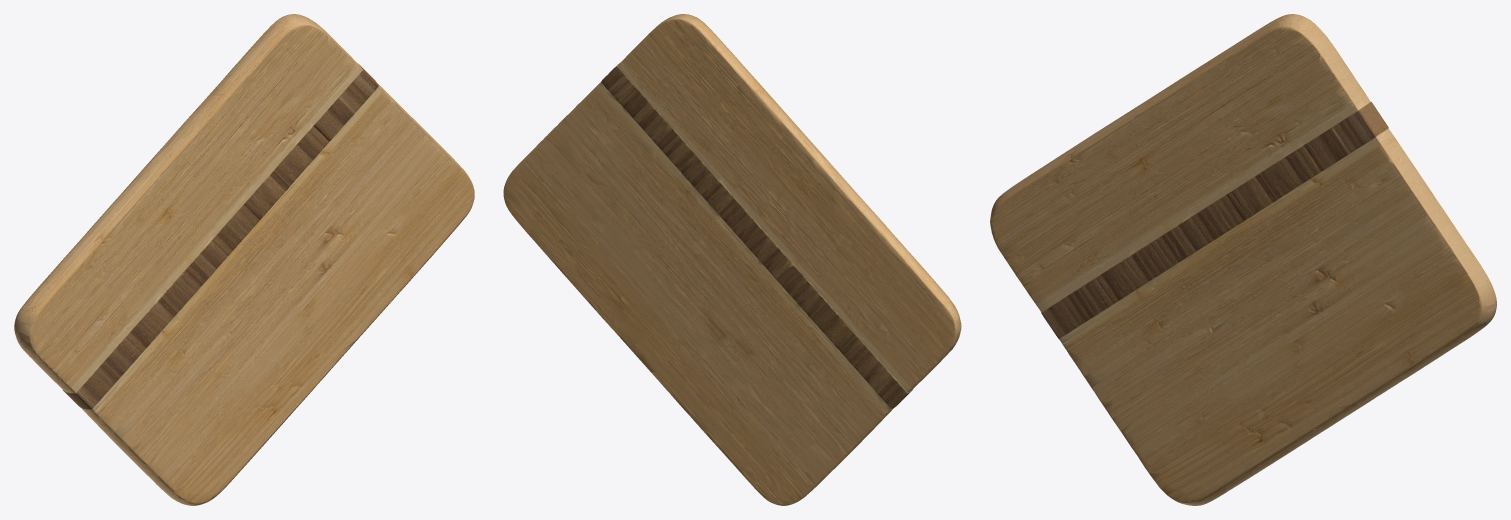
Rendered from sister-2.glb.
The picture shows the model from 3 angles, left to right: view 1: azimuth 30°, elevation 25°; view 2: azimuth 150°, elevation 25°; view 3: azimuth 330°, elevation 25°; orthographic projection. The views are drawn at different scales.
Parts seen in each view (by area): view 1: wooden cutting board; view 2: wooden cutting board; view 3: wooden cutting board.
Part boxes in pixels (x1,y1,x2,y2): wooden cutting board: (14, 14, 474, 505); wooden cutting board: (503, 14, 961, 505); wooden cutting board: (990, 14, 1496, 505).
Bounding box in the file's own units: 0.3409 × 0.3331 × 0.0148.
Materials: 1 (1 with a texture image).
